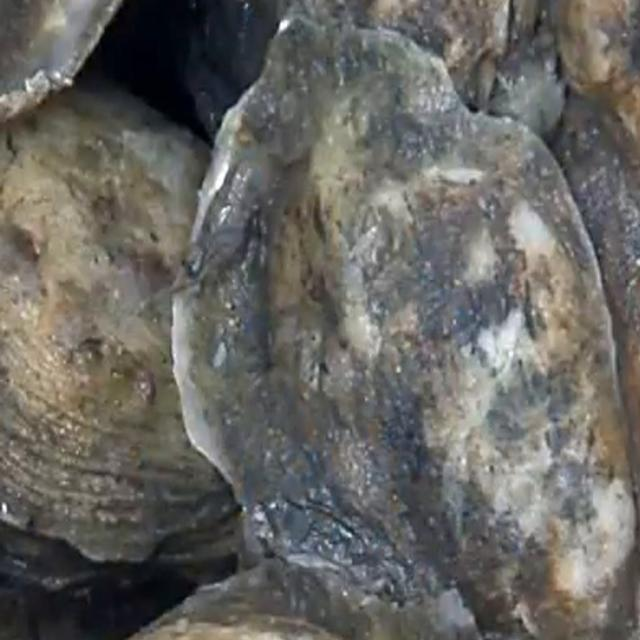Oyster-Closed: (171, 12, 640, 640), (283, 0, 542, 107), (0, 0, 122, 121)
Oyster-Indeterminate: (0, 74, 253, 587), (549, 93, 640, 493), (134, 562, 481, 640), (551, 0, 640, 158), (166, 0, 278, 125)
